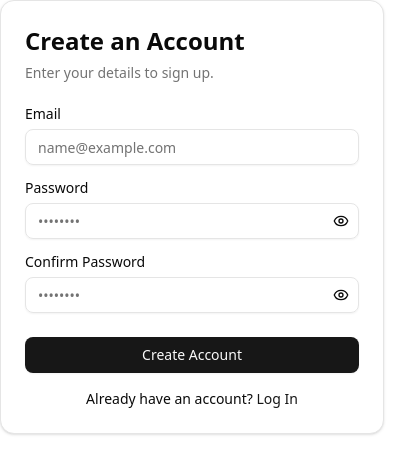
Test: SignUpPage › Password Visibility Toggle › toggles confirm password visibility when show/hide button is clicked
Click to show password
Click the button named "Show confirm password": (341, 295) [323,277,359,313]
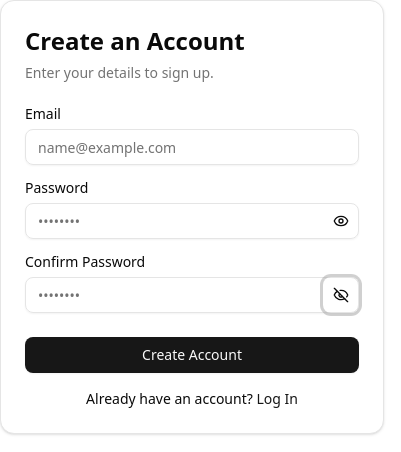
Check: the button named "Hide confirm password" is shown
Click to hide password again
Click the button named "Hide confirm password": (341, 295) [323,277,359,313]
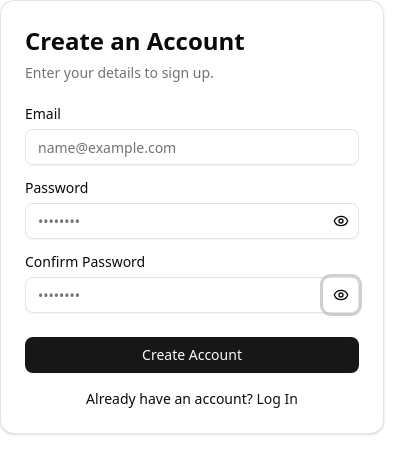
Check: the button named "Show confirm password" is shown, box [323,277,359,313]
